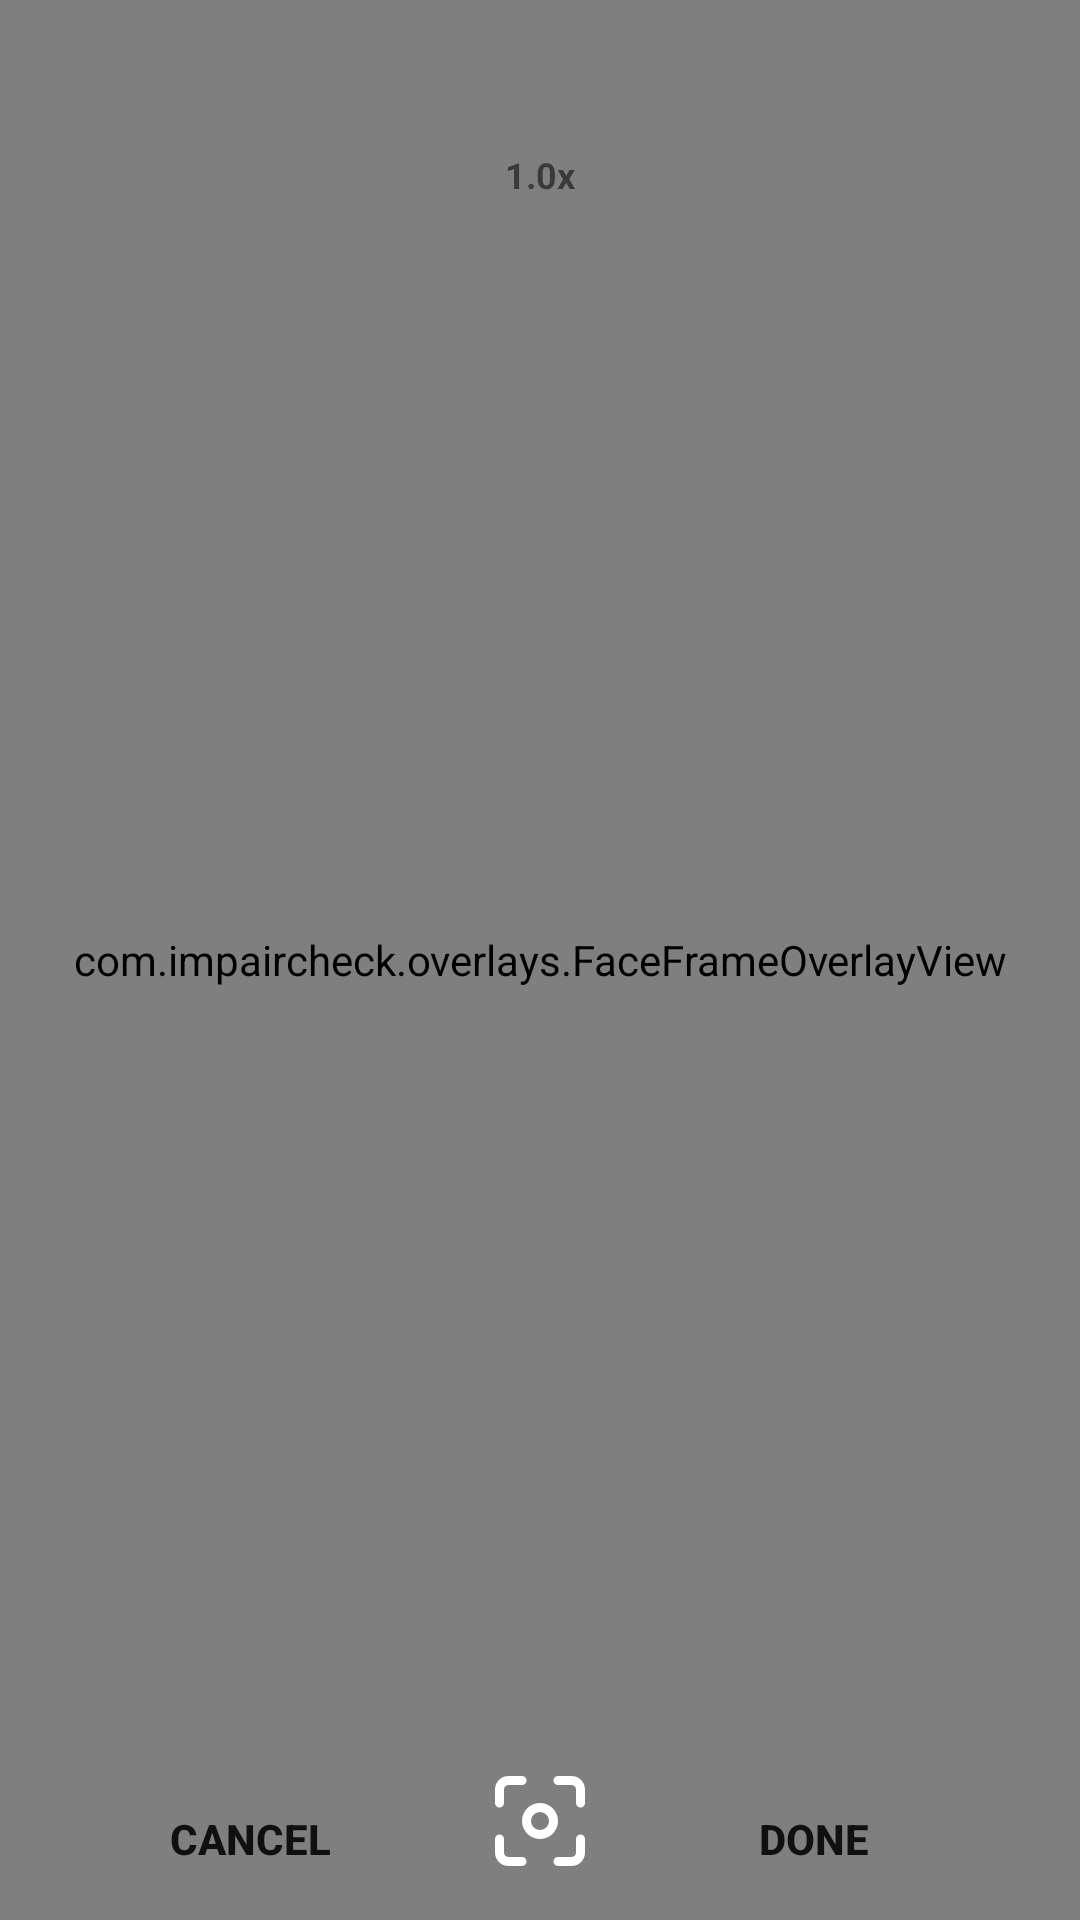

Icon bounding boxes for this 1080px x 1920px phone screenshot, format {"left": x1, "top": y1, "right": x2, "bottom": y2}:
capture: {"left": 495, "top": 1776, "right": 585, "bottom": 1866}
